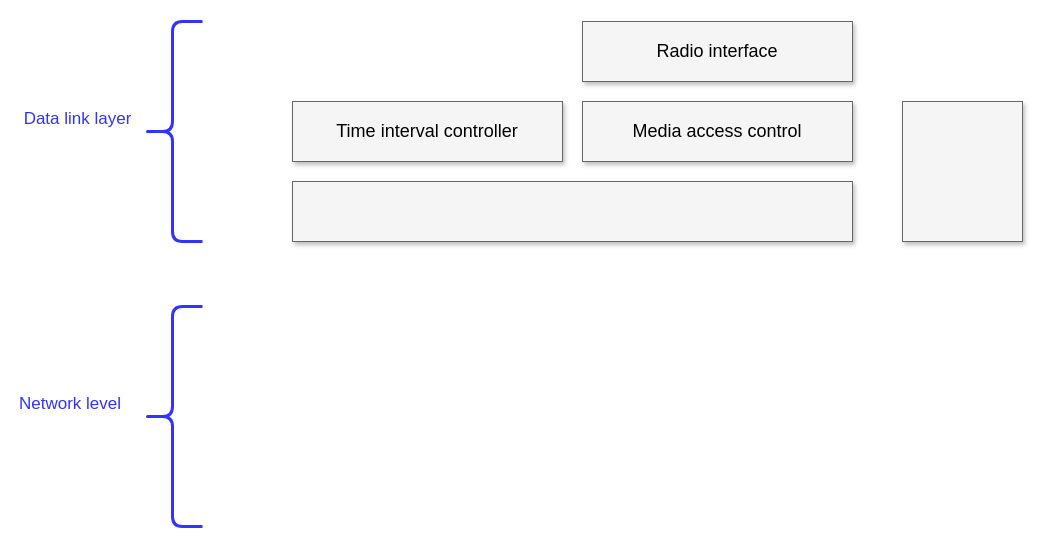
Image size: 1046x545. Some labels were removed from this diagram. Here are the shapes that lost their labels. From the top down, the centre of each, then its label:
At point 963,172: "Packet transmition protocol".
At point 573,212: "Link logic controller".
